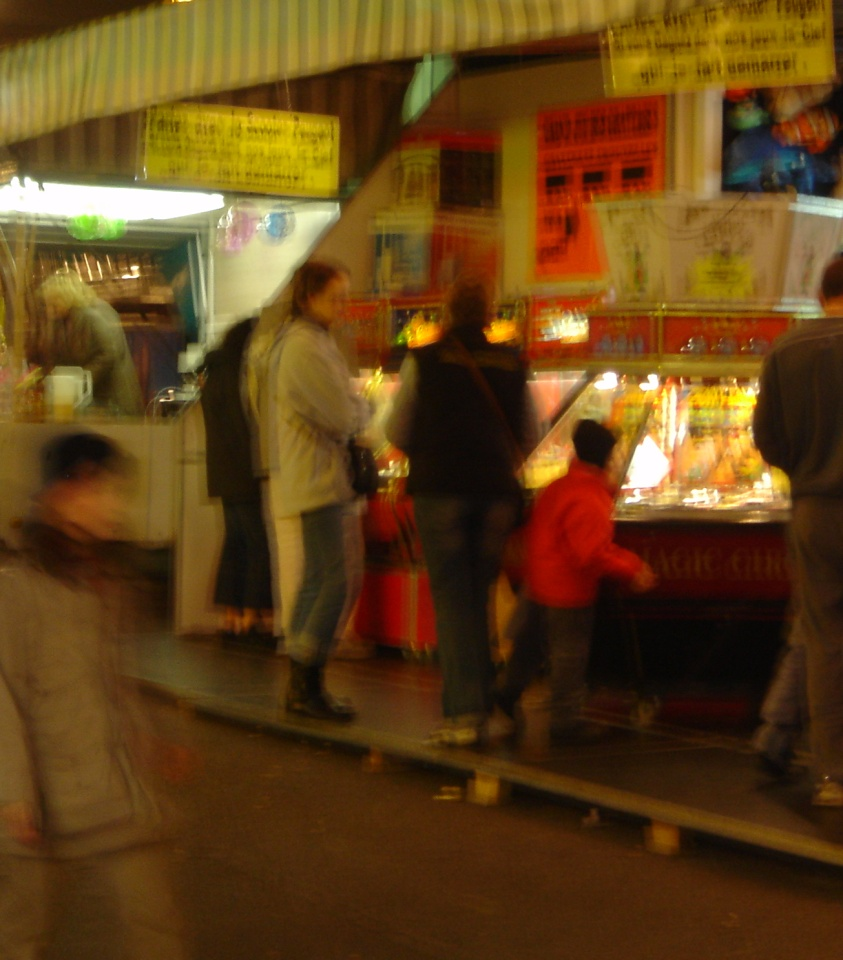person: (390, 278, 535, 753)
